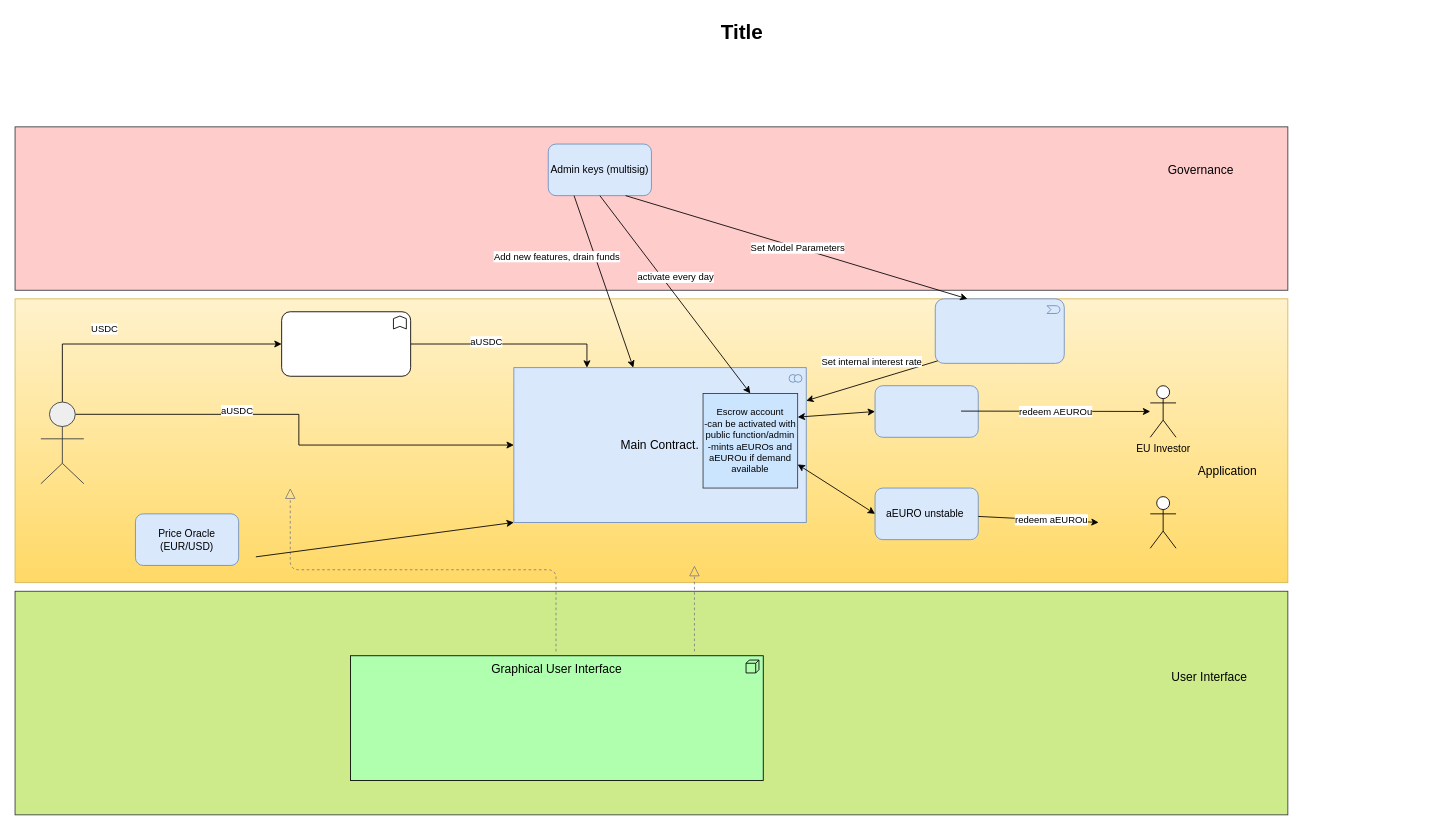
The diagram is 1441 pixels wide and 830 high, and some of its shapes have lost their labels. The box of each missing label's shape, as (x1, y1, x2, y2) in pixels:
aEURO stable: (874, 385, 978, 437)
Interest Rate Model: (934, 298, 1064, 363)
Mints interest bearing USDC: (281, 311, 411, 376)
Trader: (1149, 496, 1176, 548)
